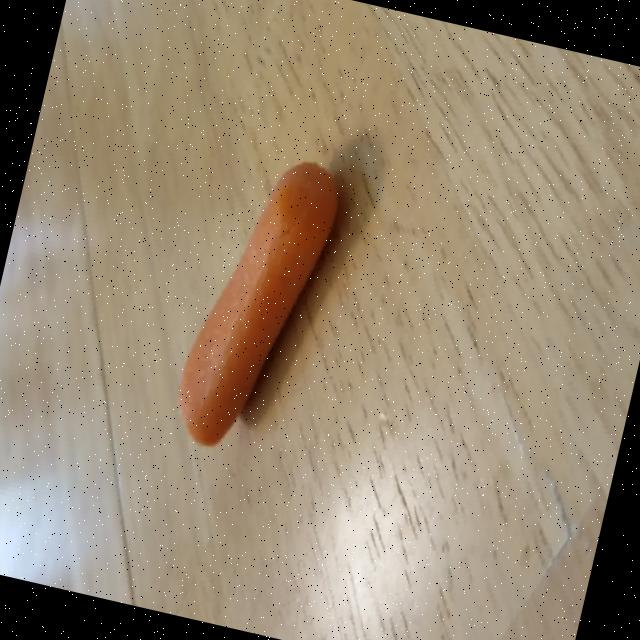carrot: (179, 162, 337, 445)
